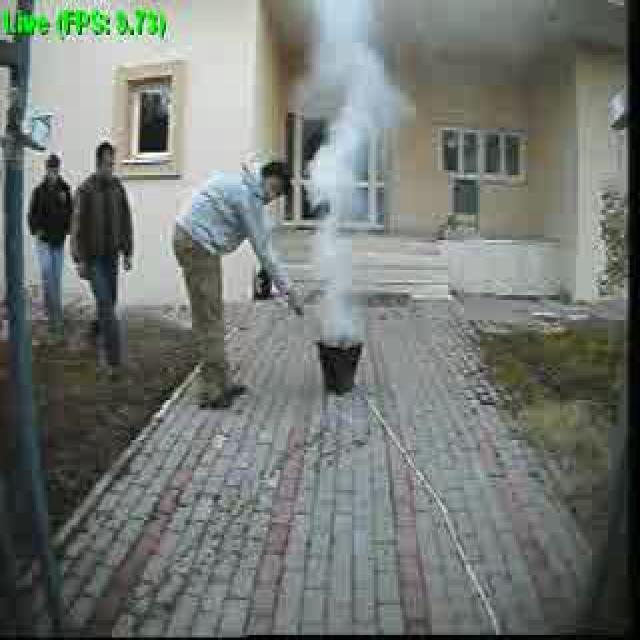Smoke: (306, 1, 370, 348)
